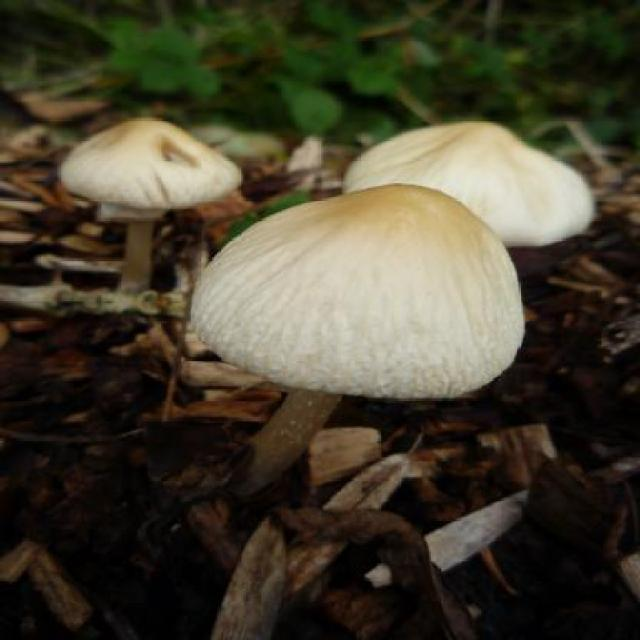Mushroom: (166, 178, 542, 464), (53, 116, 244, 290), (344, 120, 596, 249)
